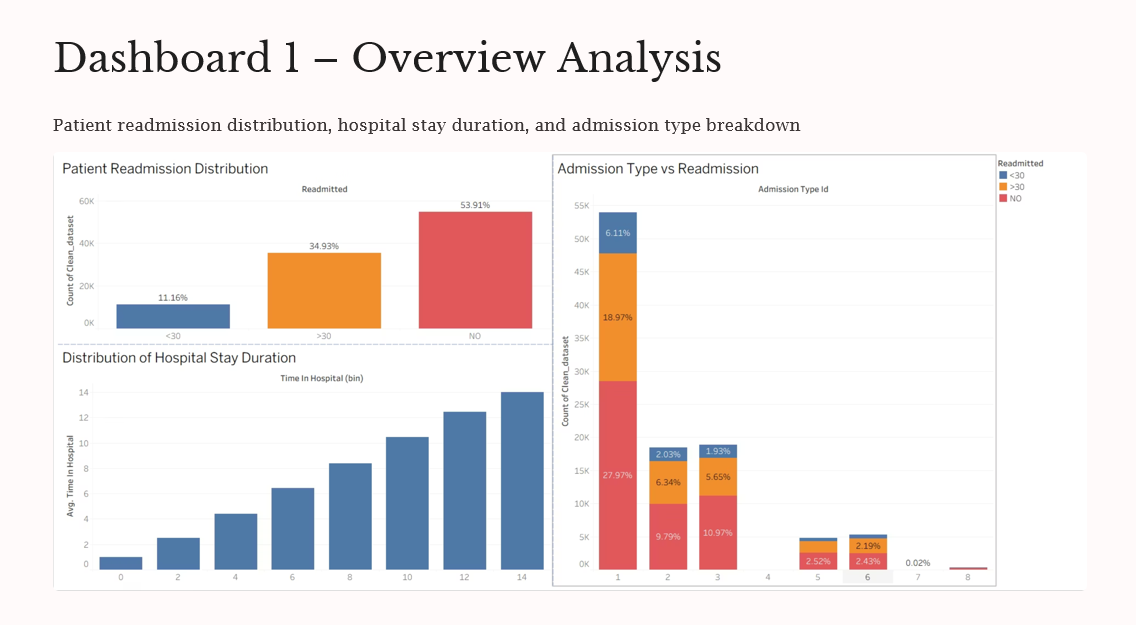

This screenshot's page, from the dashboard's own definition file:
{"tool":"tableau","page":{"name":"Dashboard 1","canvas":[1000,1000],"units":"permille","ordinal":0},"visuals":[{"type":"worksheet","title":"Sheet 1","mark":"Automatic","rows":["Clean!dataset_793DAAB08BEA4184A22D3443D9A315CB"],"cols":["readmitted"],"box":[4.2,10,478.8,430.7]},{"type":"worksheet","title":"Sheet 2","mark":"Automatic","rows":["Clean!dataset_793DAAB08BEA4184A22D3443D9A315CB"],"cols":["admission_type_id"],"box":[483.1,10,428,980]},{"type":"legend","title":"Sheet 1","param":"[federated.1vcn4bk05sg47v143kpif1b9jusi].[none:readmitted:nk]","box":[911,10,84.8,116.1]},{"type":"worksheet","title":"Sheet 3","mark":"Automatic","rows":["time_in_hospital"],"cols":["Time In Hospital (bin)"],"box":[4.2,440.7,478.8,549.3]}]}

Visuals, with their boxes on the dashboard's canvas, which has no fixed pixel size, in thousandths of its width and height (x1, y1, x2, y2). These are canvas units, not pixel positions in the 1136x625 screenshot, which may show the page scaled, cropped or inside an application window:
"Sheet 1" worksheet: <bbox>4, 10, 483, 441</bbox>
"Sheet 2" worksheet: <bbox>483, 10, 911, 990</bbox>
"Sheet 1" legend: <bbox>911, 10, 996, 126</bbox>
"Sheet 3" worksheet: <bbox>4, 441, 483, 990</bbox>
